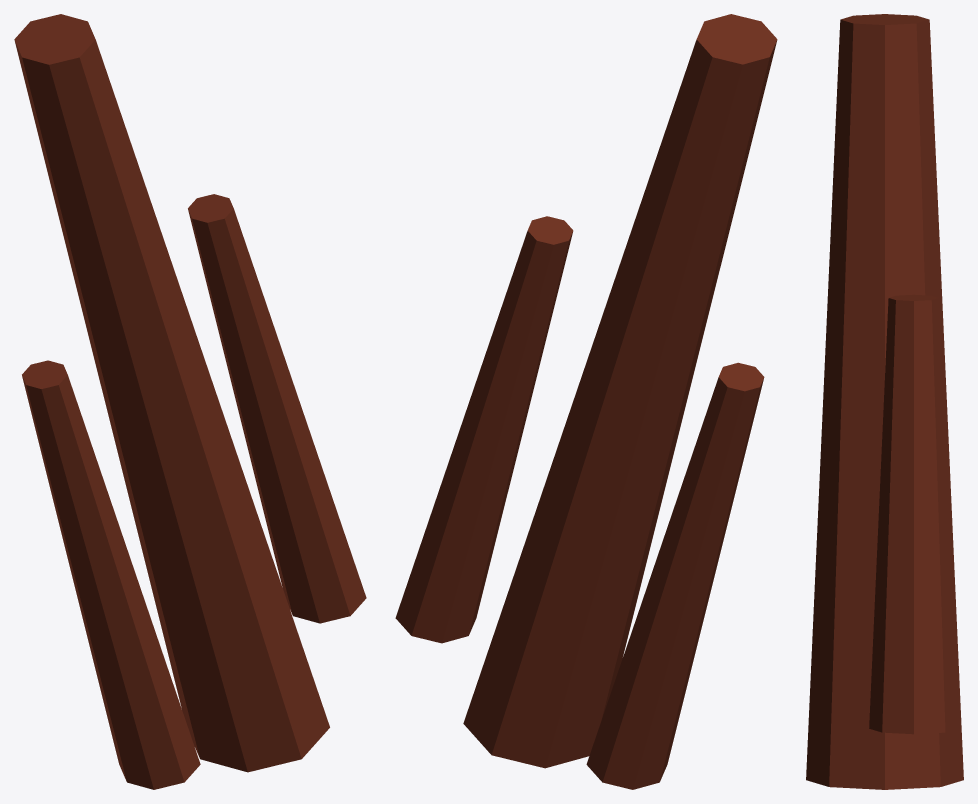
Rendered from Madeira.fbx.
3 views of the same model, side by side, from view 1: azimuth 30°, elevation 25°; view 2: azimuth 150°, elevation 25°; view 3: azimuth 270°, elevation 25° (orthographic). The views are drawn at different scales.
Visible parts, largest first — view 1: Cylinder.020; view 2: Cylinder.020; view 3: Cylinder.020.
Boxes of the visible parts, left/top/right/bottom form: Cylinder.020: left=14, top=14, right=366, bottom=789; Cylinder.020: left=395, top=14, right=777, bottom=789; Cylinder.020: left=806, top=14, right=963, bottom=789.
Size of the model in its own units: 357 by 748 by 152.
